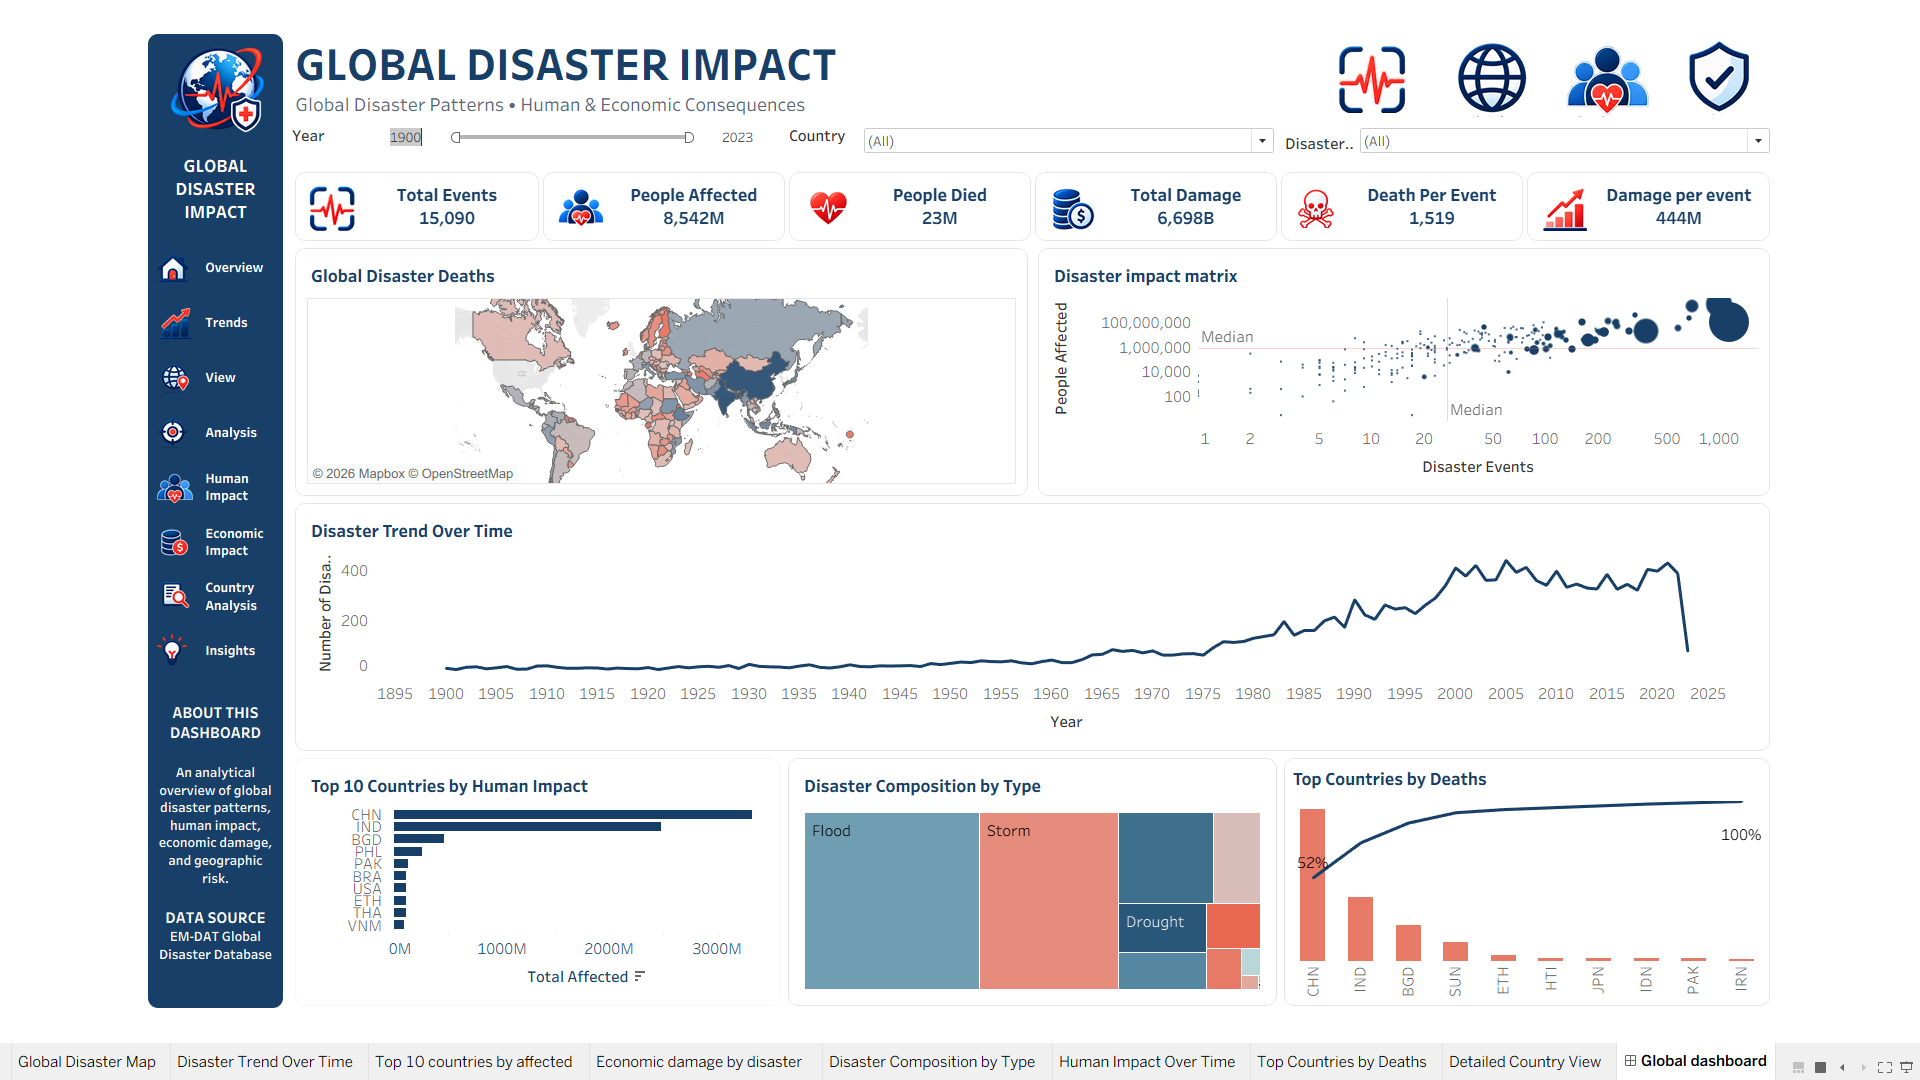

What the dashboard file says about the page in this screenshot:
{"tool":"tableau","page":{"name":"Global dashboard","canvas":[1650,1000],"ordinal":0},"visuals":[{"type":"text","box":[153,8,1027,92]},{"type":"image","param":"Image/analyze.png","box":[1180,8,116,92]},{"type":"image","param":"Image/understand.png","box":[1296,8,116,92]},{"type":"image","param":"Image/human_impact.png","box":[1412,8,115,92]},{"type":"image","param":"Image/protect.png","box":[1527,8,115,92]},{"type":"image","param":"Image/logo.png","box":[13,13,135,103]},{"type":"filter","title":"Global Disaster Map","param":"[federated.19l4srx0git1z511pou4o0pm8gmr].[none:Year:qk]","box":[153,100,497,44]},{"type":"filter","title":"Global Disaster Map","param":"[federated.19l4srx0git1z511pou4o0pm8gmr].[none:Country:nk]","box":[650,100,496,44]},{"type":"filter","title":"Global Disaster Map","param":"[federated.19l4srx0git1z511pou4o0pm8gmr].[none:Disaster Type:nk]","box":[1146,100,496,44]},{"type":"text","box":[13,116,135,102]},{"type":"image","param":"Image/kpi_disaster_events.png","box":[164,155,60,61]},{"type":"worksheet","title":"Total disaster events","mark":"Automatic","box":[224,155,176,61]},{"type":"image","param":"Image/kpi_people_affected.png","box":[412,155,60,61]},{"type":"worksheet","title":"People Affected","mark":"Automatic","box":[472,155,174,61]},{"type":"image","param":"Image/kpi_people_died.png","box":[658,155,60,61]},{"type":"worksheet","title":"People died","mark":"Automatic","box":[718,155,174,61]},{"type":"image","param":"Image/kpi_total_damage.png","box":[904,155,60,61]},{"type":"worksheet","title":"Ecnomics damaged","mark":"Automatic","box":[964,155,174,61]},{"type":"image","param":"Image/kpi_death_per_event.png","box":[1150,155,60,61]},{"type":"worksheet","title":"Avg death per events","mark":"Automatic","box":[1210,155,174,61]},{"type":"image","param":"Image/kpi_damage_per_event.png","box":[1396,155,60,61]},{"type":"worksheet","title":"Avg damage per event","mark":"Automatic","box":[1456,155,175,61]},{"type":"image","param":"Image/home.png","box":[13,218,50,55]},{"type":"text","box":[63,218,85,55]},{"type":"worksheet","title":"Global Disaster Map","mark":"Multipolygon","box":[168,235,717,232]},{"type":"worksheet","title":"Disaster impact matrix","mark":"Circle","rows":["Total Affected"],"cols":["Total Events"],"box":[911,235,716,232]},{"type":"image","param":"Image/time_trends.png","box":[13,273,50,55]},{"type":"text","box":[63,273,85,55]},{"type":"image","param":"Image/geographic_view.png","box":[13,328,50,55]},{"type":"text","box":[63,328,85,55]},{"type":"image","param":"Image/impact_analysis.png","box":[13,383,50,55]},{"type":"text","box":[63,383,85,55]},{"type":"image","param":"Image/human_impact.png","box":[13,438,50,55]},{"type":"text","box":[63,438,85,55]},{"type":"worksheet","title":"Disaster Trend Over Time","mark":"Line","rows":["Total Events"],"cols":["Year"],"box":[168,490,1459,232]},{"type":"image","param":"Image/economic_impact.png","box":[13,493,50,55]},{"type":"text","box":[63,493,85,55]},{"type":"image","param":"Image/country_analysis.png","box":[13,548,50,54]},{"type":"text","box":[63,548,85,54]},{"type":"image","param":"Image/insights.png","box":[13,602,50,54]},{"type":"text","box":[63,602,85,54]},{"type":"text","box":[13,656,135,296]},{"type":"worksheet","title":"Top Countries by Deaths","mark":"Bar","rows":["Total Deaths","Calculation_1661946624376839"],"cols":["ISO"],"box":[1150,738,484,246]},{"type":"worksheet","title":"Top 10 countries by affected","mark":"Bar","rows":["ISO"],"cols":["Total Affected"],"box":[168,745,470,232]},{"type":"worksheet","title":"Disaster Composition by Type","mark":"Automatic","box":[661,745,473,232]}]}

Visuals, with their boxes on the page's 1650x1000 design canvas (x1, y1, x2, y2). These are canvas units, not pixel positions in the 1920x1080 screenshot, which may show the page scaled, cropped or inside an application window:
text: crop(153, 8, 1180, 100)
image: crop(1180, 8, 1296, 100)
image: crop(1296, 8, 1412, 100)
image: crop(1412, 8, 1527, 100)
image: crop(1527, 8, 1642, 100)
image: crop(13, 13, 148, 116)
"Global Disaster Map" filter: crop(153, 100, 650, 144)
"Global Disaster Map" filter: crop(650, 100, 1146, 144)
"Global Disaster Map" filter: crop(1146, 100, 1642, 144)
text: crop(13, 116, 148, 218)
image: crop(164, 155, 224, 216)
"Total disaster events" worksheet: crop(224, 155, 400, 216)
image: crop(412, 155, 472, 216)
"People Affected" worksheet: crop(472, 155, 646, 216)
image: crop(658, 155, 718, 216)
"People died" worksheet: crop(718, 155, 892, 216)
image: crop(904, 155, 964, 216)
"Ecnomics damaged" worksheet: crop(964, 155, 1138, 216)
image: crop(1150, 155, 1210, 216)
"Avg death per events" worksheet: crop(1210, 155, 1384, 216)
image: crop(1396, 155, 1456, 216)
"Avg damage per event" worksheet: crop(1456, 155, 1631, 216)
image: crop(13, 218, 63, 273)
text: crop(63, 218, 148, 273)
"Global Disaster Map" worksheet (Multipolygon marks): crop(168, 235, 885, 467)
"Disaster impact matrix" worksheet (Circle marks): crop(911, 235, 1627, 467)
image: crop(13, 273, 63, 328)
text: crop(63, 273, 148, 328)
image: crop(13, 328, 63, 383)
text: crop(63, 328, 148, 383)
image: crop(13, 383, 63, 438)
text: crop(63, 383, 148, 438)
image: crop(13, 438, 63, 493)
text: crop(63, 438, 148, 493)
"Disaster Trend Over Time" worksheet (Line marks): crop(168, 490, 1627, 722)
image: crop(13, 493, 63, 548)
text: crop(63, 493, 148, 548)
image: crop(13, 548, 63, 602)
text: crop(63, 548, 148, 602)
image: crop(13, 602, 63, 656)
text: crop(63, 602, 148, 656)
text: crop(13, 656, 148, 952)
"Top Countries by Deaths" worksheet (Bar marks): crop(1150, 738, 1634, 984)
"Top 10 countries by affected" worksheet (Bar marks): crop(168, 745, 638, 977)
"Disaster Composition by Type" worksheet: crop(661, 745, 1134, 977)
